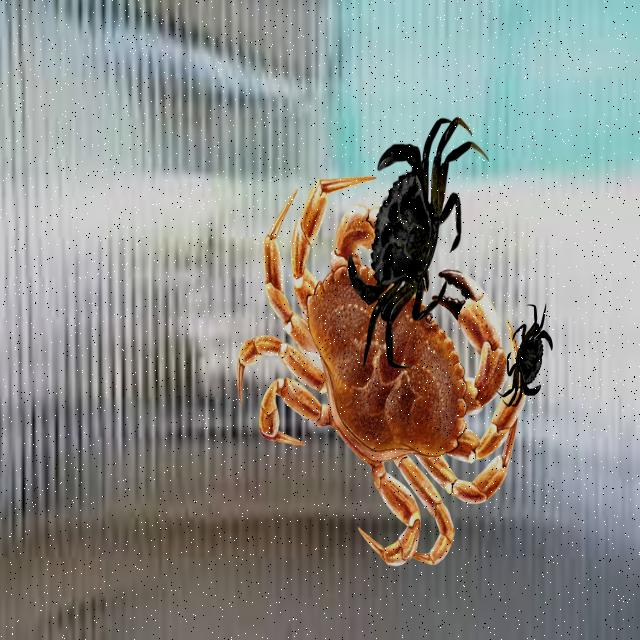European_Green_Crab: (330, 78, 488, 391), (493, 293, 563, 426)
